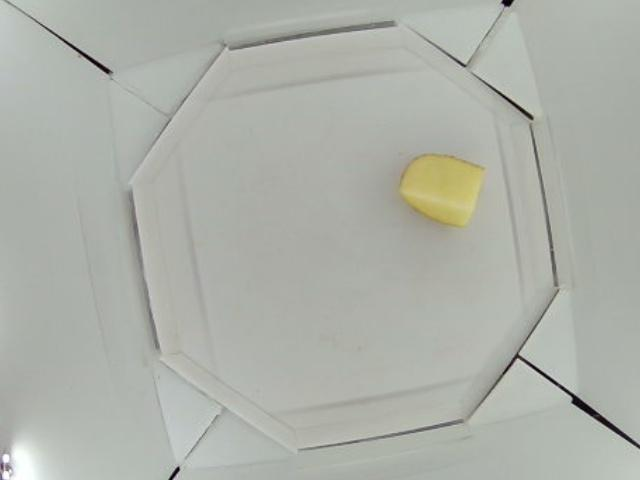Potato: (402, 151, 484, 230)
